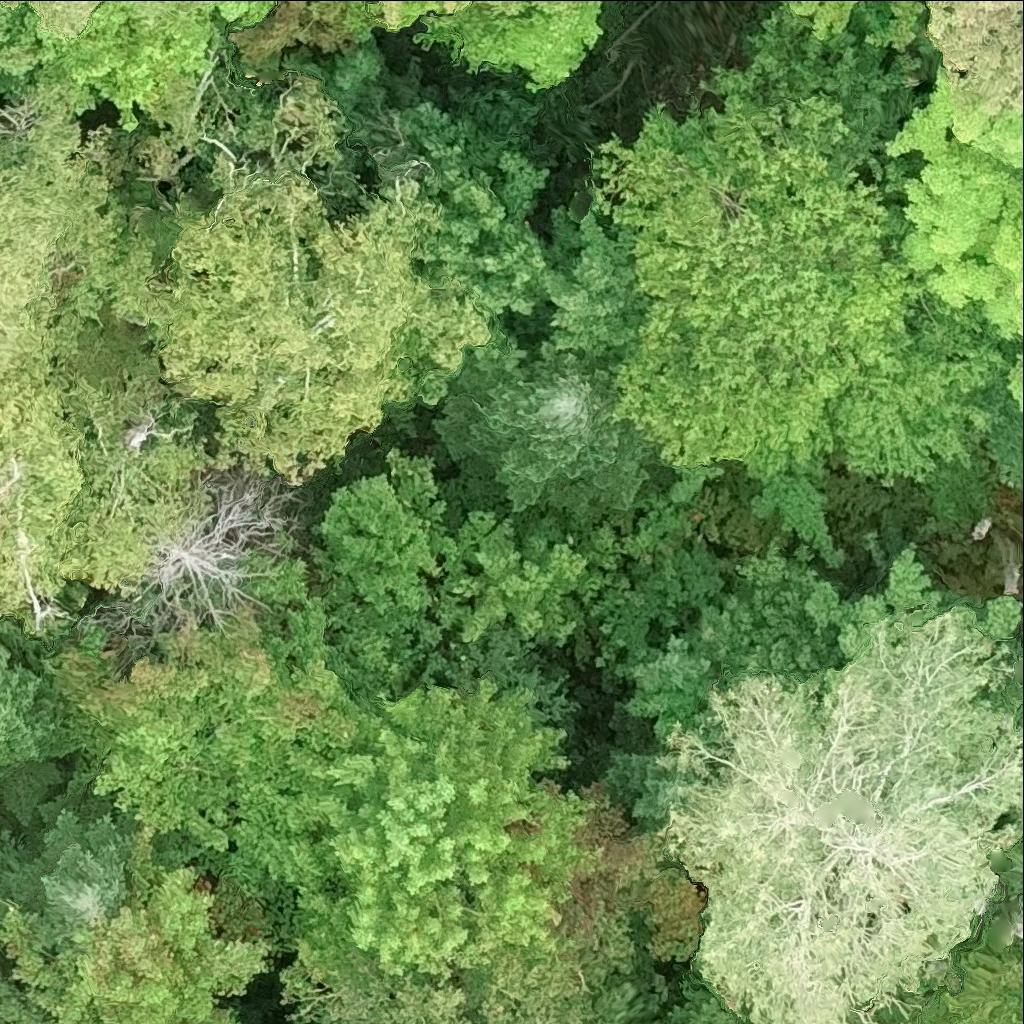crown: (655, 544, 1023, 1023), (589, 4, 926, 475), (295, 670, 708, 1023), (43, 553, 398, 950), (162, 82, 492, 475), (0, 371, 231, 645), (0, 74, 181, 389), (0, 862, 276, 1023), (433, 340, 658, 515), (311, 449, 463, 696), (890, 62, 1023, 338), (679, 535, 843, 750), (86, 486, 297, 635), (829, 298, 1000, 481), (320, 0, 603, 92), (437, 511, 619, 646), (34, 0, 217, 131), (0, 794, 137, 940), (472, 910, 644, 1023), (281, 958, 470, 1023), (747, 450, 846, 569), (0, 644, 62, 824), (926, 0, 1023, 115), (780, 0, 927, 51), (943, 961, 1023, 1023), (0, 0, 58, 76), (0, 966, 59, 1023), (26, 0, 101, 43), (217, 0, 277, 29), (160, 0, 218, 19), (198, 1003, 244, 1023), (1013, 363, 1023, 405), (0, 0, 18, 9), (100, 1017, 109, 1023), (297, 1020, 305, 1023), (906, 1022, 913, 1023)
